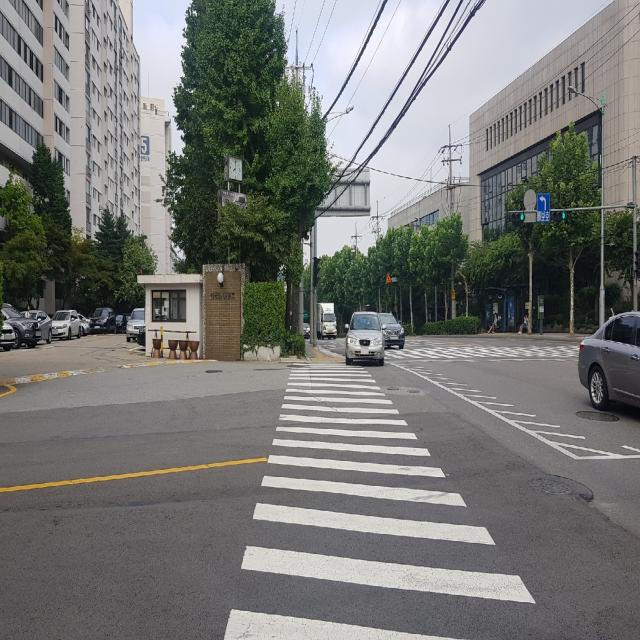횡단보도: (224, 361, 536, 640), (387, 344, 578, 360)
